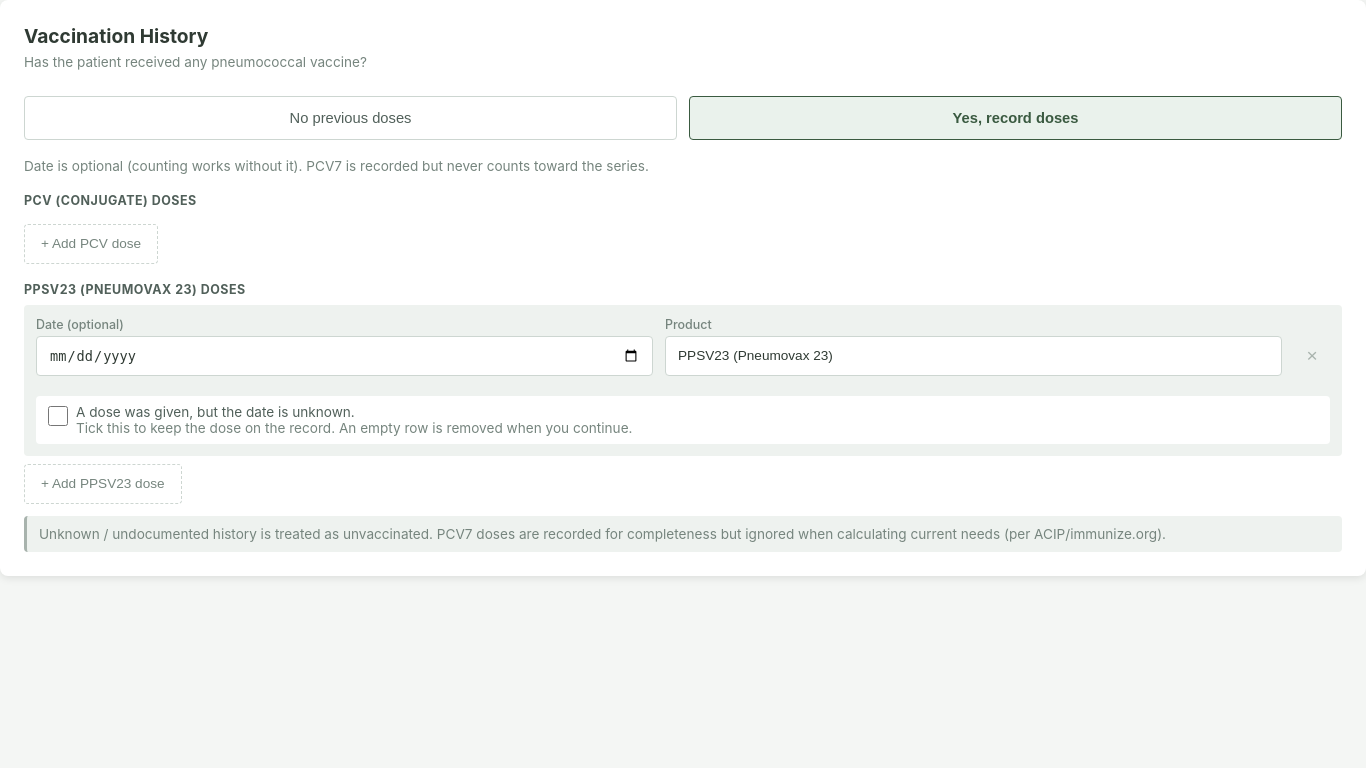
Scenario: S9 — the dose editor has one home › the details-unknown tick, on both surfaces › history withdraws it once a PPSV23 date is entered
This screenshot has width=1366, height=768.
Expected: the number of checkboxes labelled "A dose was given, but the date is unknown" is 1, [48,406,68,426]
Type "2020-01-01" into the date field labelled "Date (optional)" at (344, 356), box [36,336,653,376]
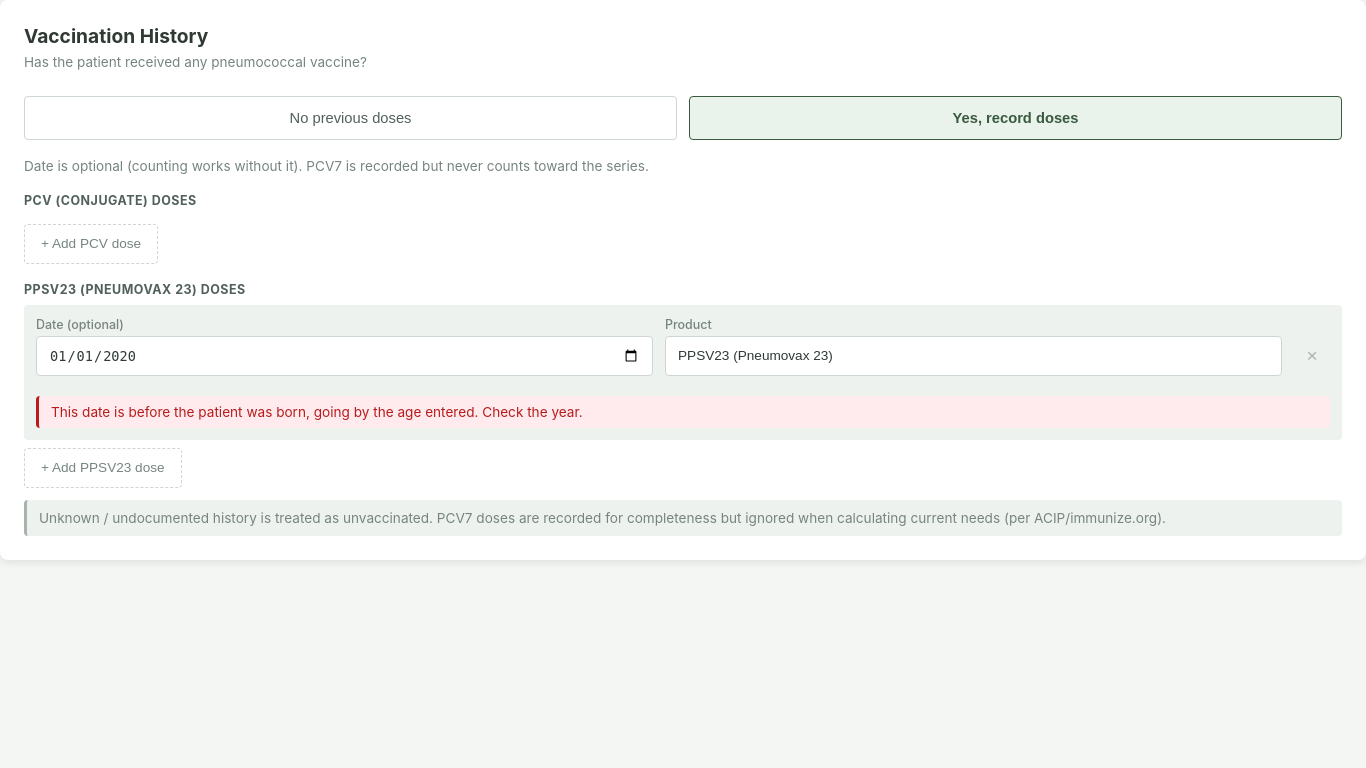
Now no checkboxes labelled "A dose was given, but the date is unknown" are shown
